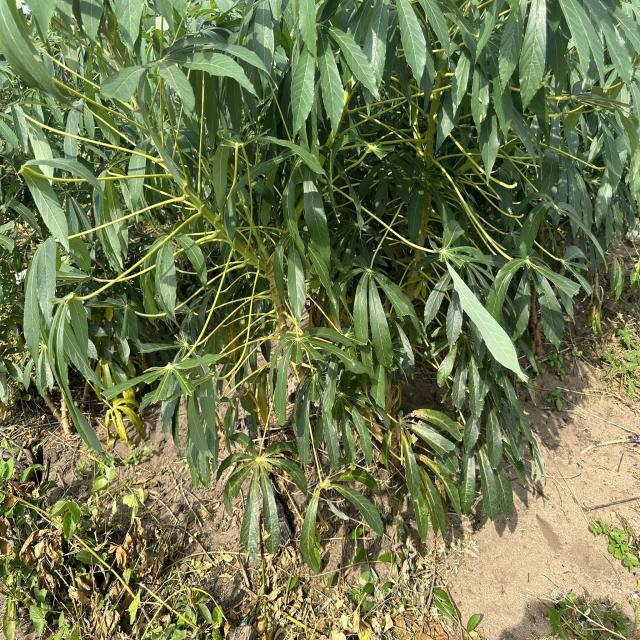Mosca: (283, 17, 302, 48), (204, 366, 214, 379), (247, 463, 253, 474)
